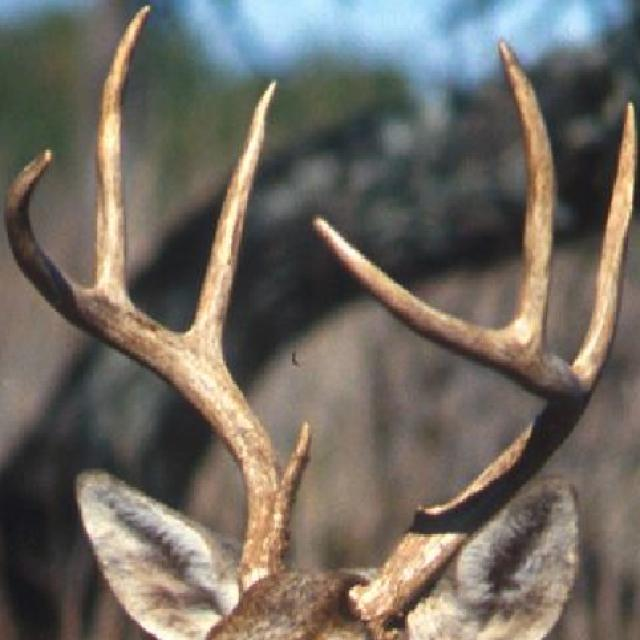L-F: (311, 216, 589, 639)
L-G2: (571, 100, 638, 402)
L-G3: (498, 39, 558, 351)
R-F: (4, 146, 293, 598)
R-G1: (280, 420, 313, 510)
R-G2: (183, 79, 278, 363)
R-G3: (93, 4, 153, 301)
